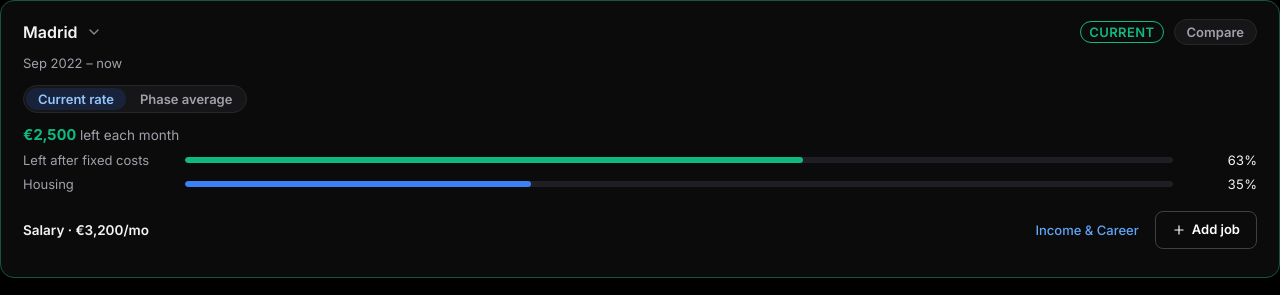
Test: LivingPhaseCard at a glance › current rate and phase average › switches the leftover, the saved share and the housing share to the average month of the stay
Click the radio button labelled "Phase average" at coordinates (186, 99), box x1=140 y1=91 x2=232 y2=107
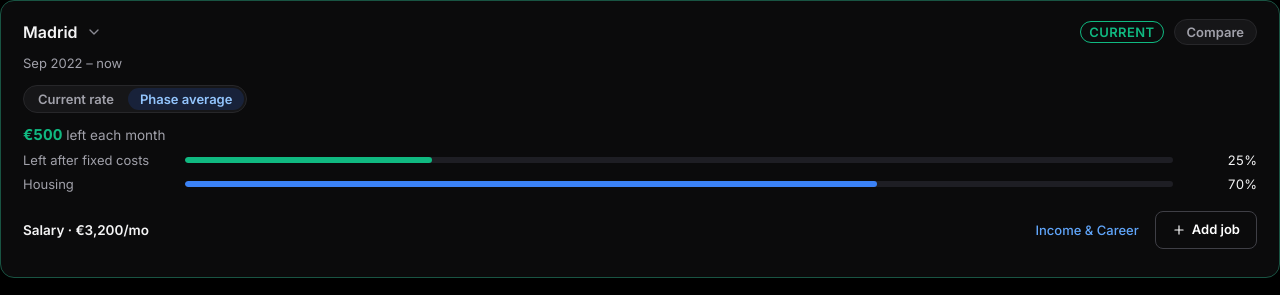
Now the radio button labelled "Phase average" is checked, box x1=128 y1=88 x2=244 y2=110
Now the element showing "€500 left each month" is shown, box x1=23 y1=125 x2=165 y2=144
Now the element showing "Left after fixed costs 25%" is shown, box x1=23 y1=152 x2=1257 y2=168
Click the radio button labelled "Current rate" at coordinates (76, 99), box x1=38 y1=91 x2=114 y2=107
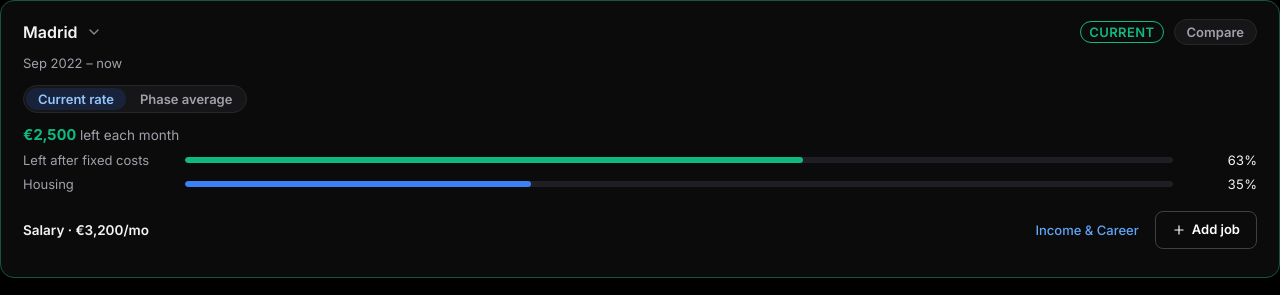
Now the element showing "€2,500 left each month" is shown, box x1=23 y1=125 x2=179 y2=144
